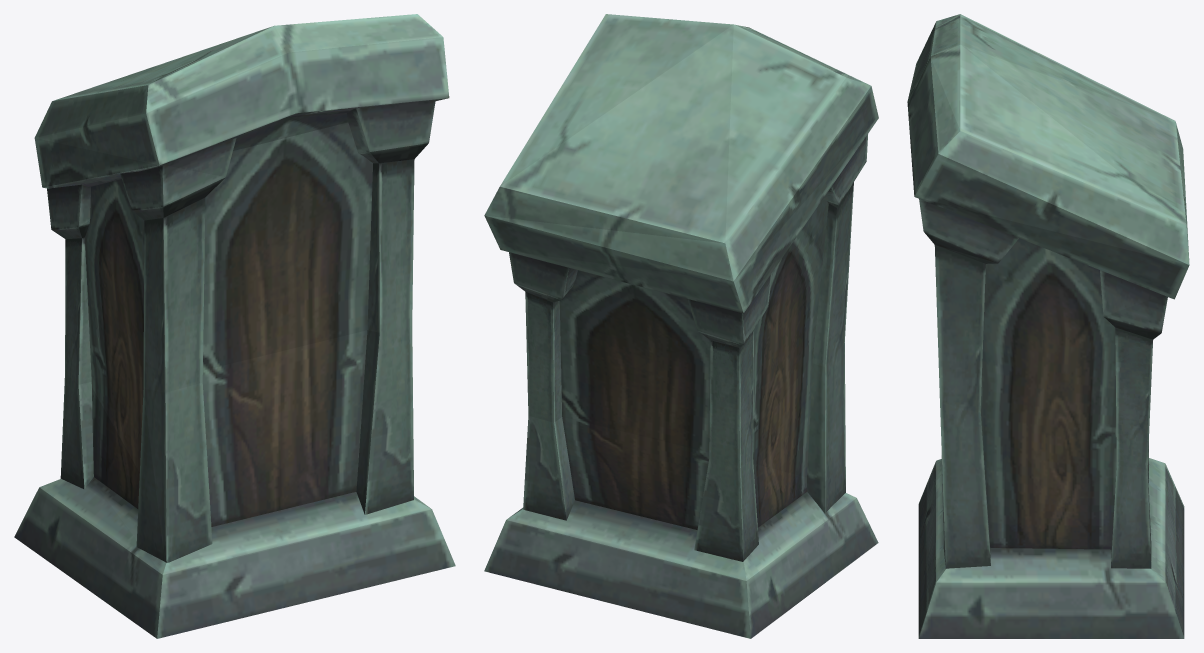
The model's file is crypt_lectern01.fbx.
3 views of the same model, side by side, from view 1: azimuth 30°, elevation 25°; view 2: azimuth 150°, elevation 25°; view 3: azimuth 270°, elevation 25° (orthographic). The views are drawn at different scales.
Visible parts, largest first — view 1: obj0.059; view 2: obj0.059; view 3: obj0.059.
Boxes of the visible parts, left/top/right/bottom form: obj0.059: left=14, top=14, right=455, bottom=638; obj0.059: left=484, top=14, right=878, bottom=638; obj0.059: left=907, top=14, right=1189, bottom=638.
Size of the model in its own units: 1.03 by 1.86 by 0.9045.
